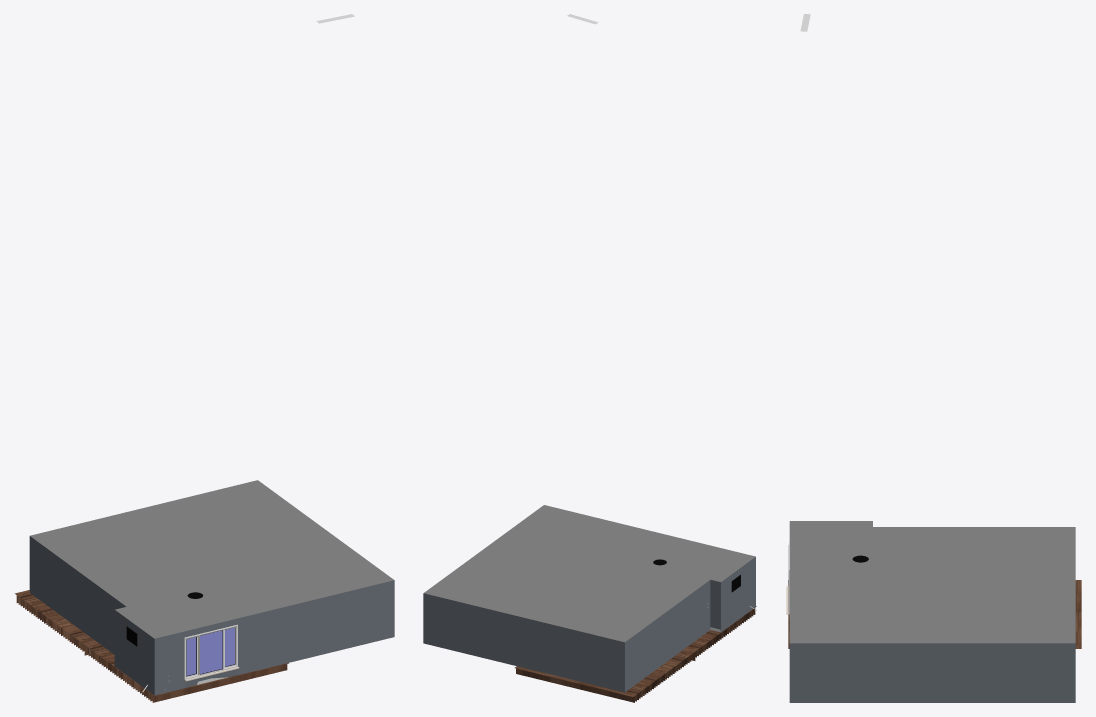
File: IndoorRoom.fbx
The picture shows the model from 3 angles, left to right: view 1: azimuth 30°, elevation 25°; view 2: azimuth 150°, elevation 25°; view 3: azimuth 270°, elevation 25°; orthographic projection. The views are drawn at different scales.
Parts seen in each view (by area): view 1: Cube, Window, Plane, Plane.003; view 2: Cube, Plane.003, Plane; view 3: Cube, Plane.003.
Part boxes in pixels (x1=…): Cube: x1=29, y1=480, x2=394, y2=695; Window: x1=184, y1=624, x2=239, y2=681; Plane: x1=84, y1=642, x2=288, y2=702; Plane.003: x1=14, y1=590, x2=96, y2=651; Cube: x1=423, y1=505, x2=755, y2=692; Plane.003: x1=515, y1=649, x2=695, y2=702; Plane: x1=685, y1=606, x2=756, y2=657; Cube: x1=788, y1=521, x2=1075, y2=702; Plane.003: x1=1075, y1=580, x2=1081, y2=648.
Size of the model in its own units: 1240 by 3051 by 1229.
